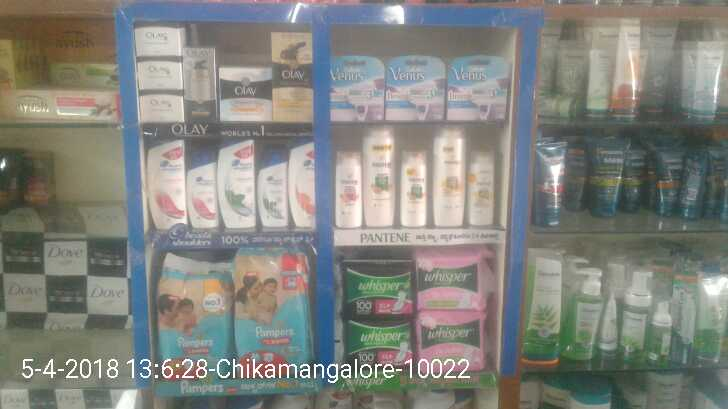venus: (385, 56, 446, 120), (447, 56, 506, 120), (329, 56, 386, 120)
